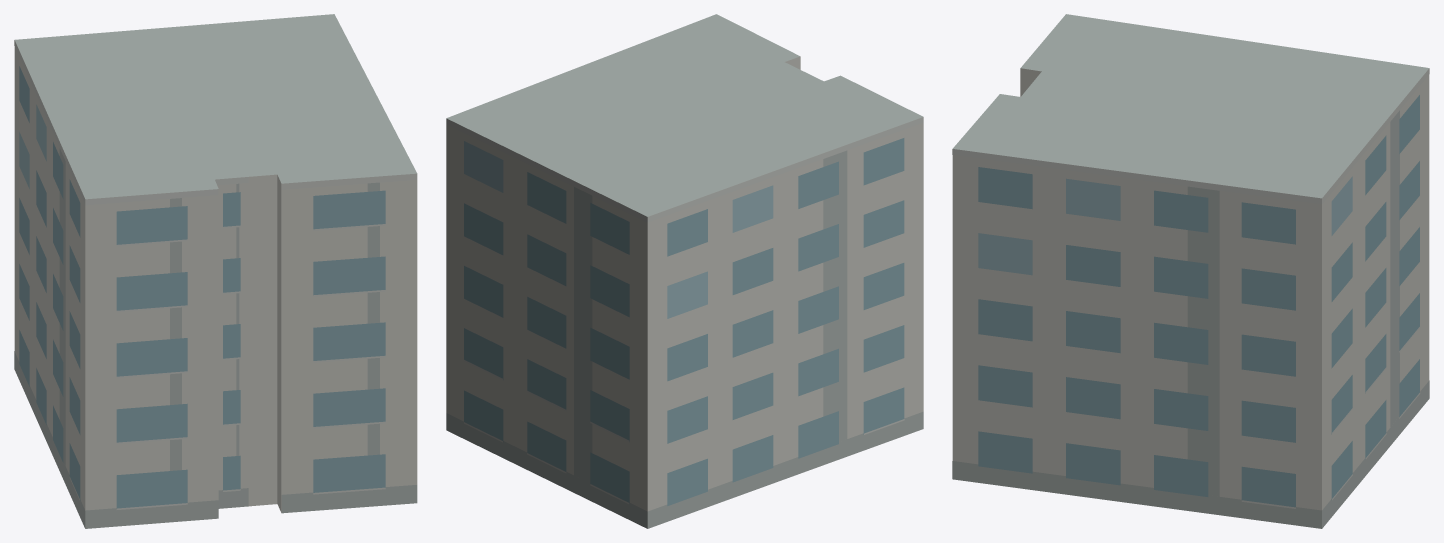
The model's file is survey-upis-32944929.glb.
The picture shows the model from 3 angles, left to right: view 1: azimuth 30°, elevation 25°; view 2: azimuth 150°, elevation 25°; view 3: azimuth 270°, elevation 25°; orthographic projection. The views are drawn at different scales.
Parts seen in each view (by area): view 1: survey-upis-32944929.tmp; view 2: survey-upis-32944929.tmp; view 3: survey-upis-32944929.tmp.
Boxes of the visible parts, <box> form: survey-upis-32944929.tmp: <box>14,14,417,528</box>; survey-upis-32944929.tmp: <box>446,14,923,528</box>; survey-upis-32944929.tmp: <box>952,14,1429,528</box>.
Size of the model in its own units: 15.68 by 13.1 by 17.15.
